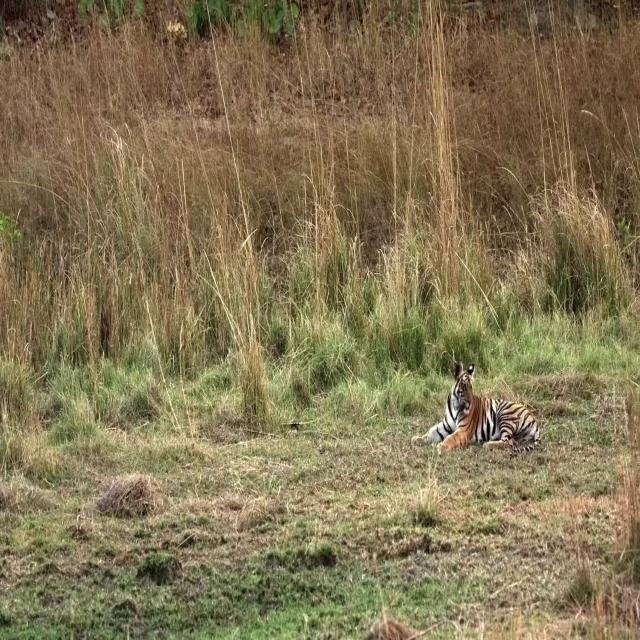tiger: (412, 359, 542, 457)
